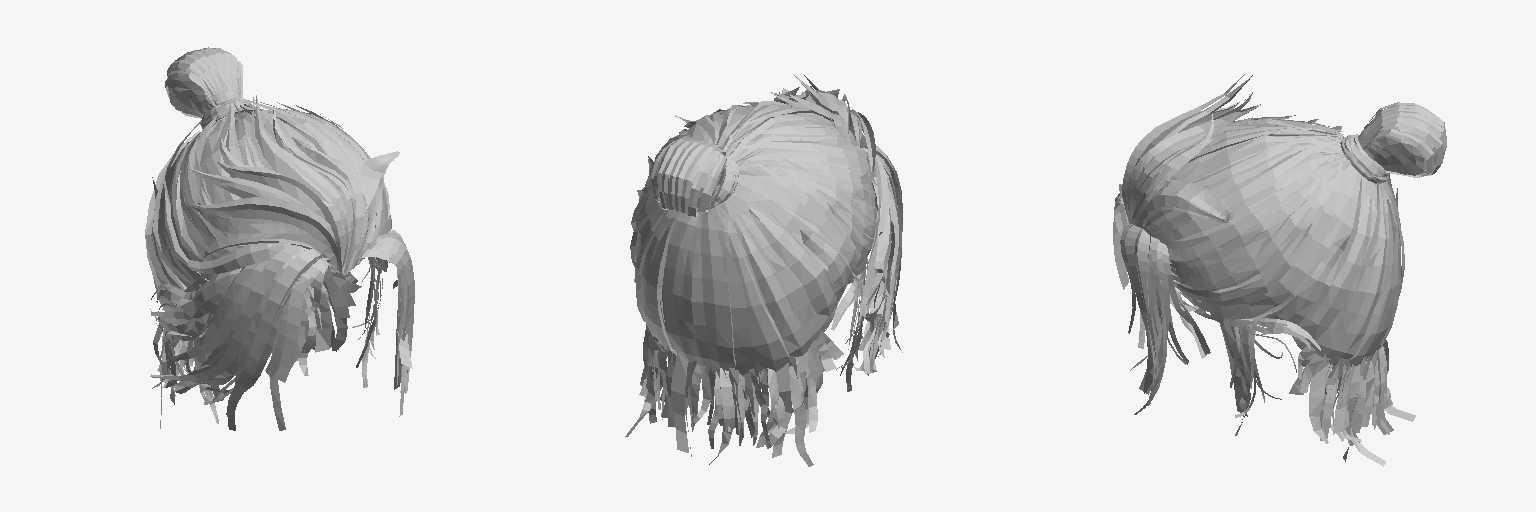
3 renders of one model, left to right at view 1: azimuth 30°, elevation 25°; view 2: azimuth 150°, elevation 25°; view 3: azimuth 270°, elevation 25°, orthographic.
Visible parts, largest first — view 1: Mesh_0156 group1, group1 Mesh_0058_ncl1_4, group1 Mesh_0032_ncl1_7; view 2: Mesh_0156 group1, group1 Mesh_0058_ncl1_4, group1 Mesh_0032_ncl1_7; view 3: Mesh_0156 group1, group1 Mesh_0058_ncl1_4, group1 Mesh_0032_ncl1_7.
Boxes of the visible parts, box(x1,y1,x2,y2) form: Mesh_0156 group1: box(145, 47, 399, 428); group1 Mesh_0058_ncl1_4: box(150, 230, 414, 430); group1 Mesh_0032_ncl1_7: box(200, 98, 254, 128); Mesh_0156 group1: box(625, 75, 877, 466); group1 Mesh_0058_ncl1_4: box(836, 144, 902, 391); group1 Mesh_0032_ncl1_7: box(713, 155, 738, 207); Mesh_0156 group1: box(1122, 74, 1446, 466); group1 Mesh_0058_ncl1_4: box(1113, 184, 1281, 435); group1 Mesh_0032_ncl1_7: box(1340, 134, 1389, 183).
Size of the model in its own units: 42.48 by 58.79 by 50.7.